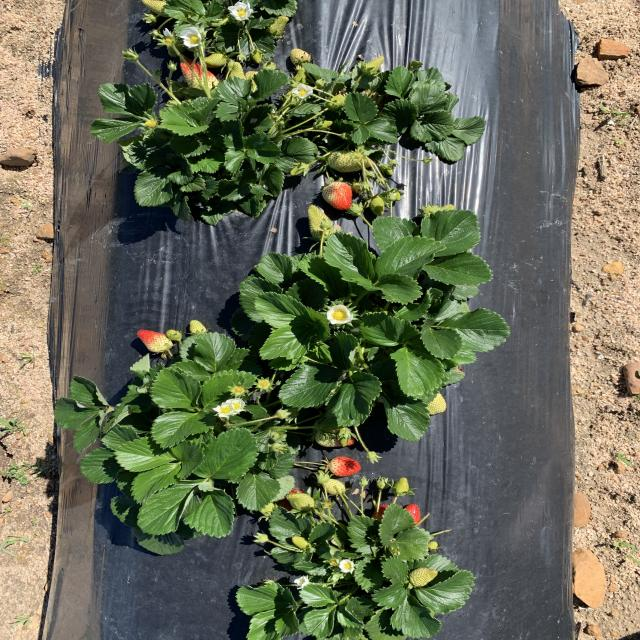unripe: (319, 182, 356, 212), (273, 486, 306, 516), (329, 457, 363, 477), (368, 503, 392, 529), (401, 503, 422, 528)
